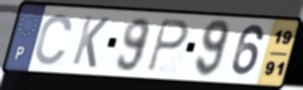6: (230, 22, 265, 80)
9: (192, 18, 231, 81), (115, 17, 152, 73)
C: (33, 12, 75, 67)
K: (69, 13, 111, 70)
P: (145, 17, 191, 74)
